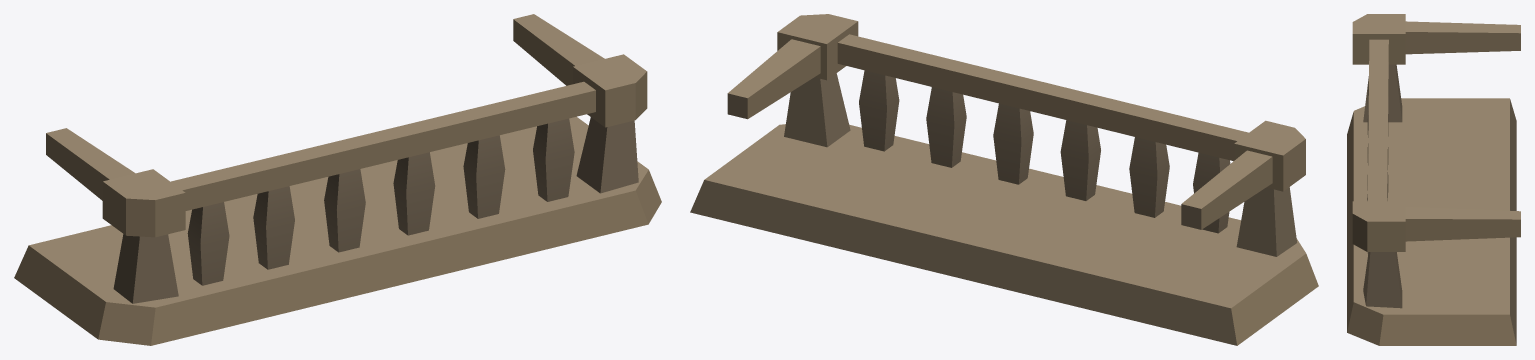
Rendered from Balcony_B1.fbx.
3 renders of one model, left to right at view 1: azimuth 30°, elevation 25°; view 2: azimuth 150°, elevation 25°; view 3: azimuth 270°, elevation 25°, orthographic. The views are drawn at different scales.
Visible parts, largest first — view 1: Balcony_B1; view 2: Balcony_B1; view 3: Balcony_B1.
Part boxes in pixels (x1,y1,x2,y2): Balcony_B1: (14,14,661,345); Balcony_B1: (690,14,1318,345); Balcony_B1: (1347,14,1520,345).
Bounding box in the file's own units: 557 × 133 × 182.
